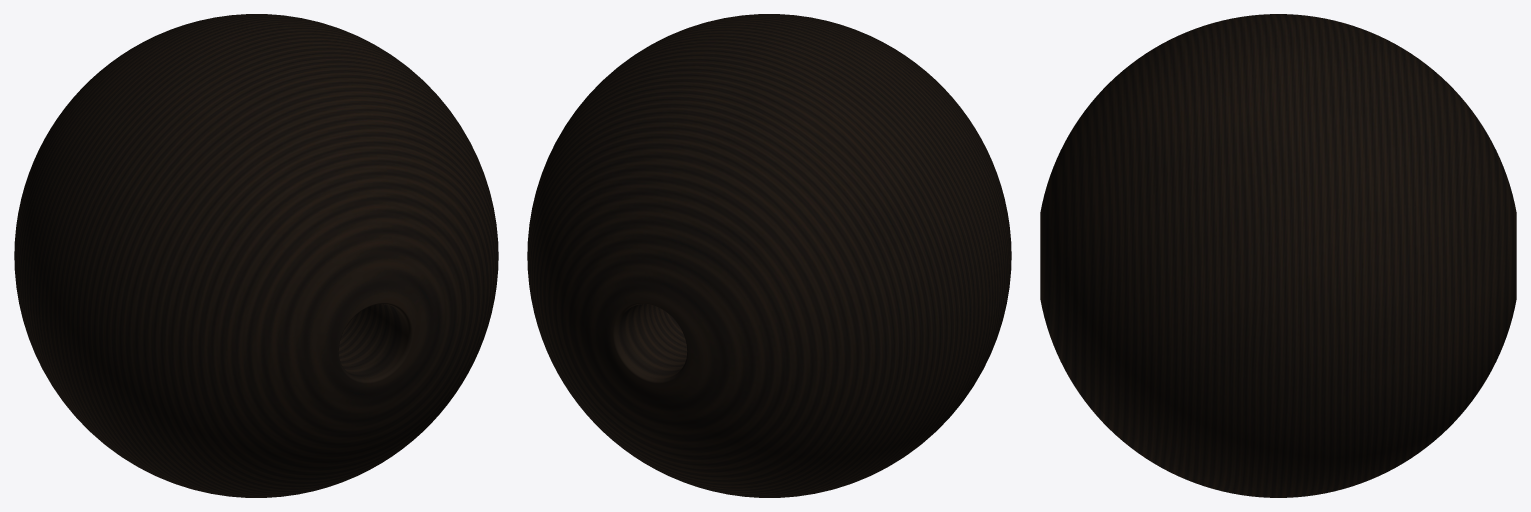
The model's file is karungali-6mm.glb.
3 views of the same model, side by side, from view 1: azimuth 30°, elevation 25°; view 2: azimuth 150°, elevation 25°; view 3: azimuth 270°, elevation 25° (orthographic).
Parts seen in each view (by area): view 1: karungali.001; view 2: karungali.001; view 3: karungali.001.
Part boxes in pixels (x1,y1,x2,y2): karungali.001: [14, 14, 498, 497]; karungali.001: [527, 14, 1011, 497]; karungali.001: [1040, 14, 1516, 497].
Size of the model in its own units: 0.006 by 0.006 by 0.0059.
1 material, 1 textured.
